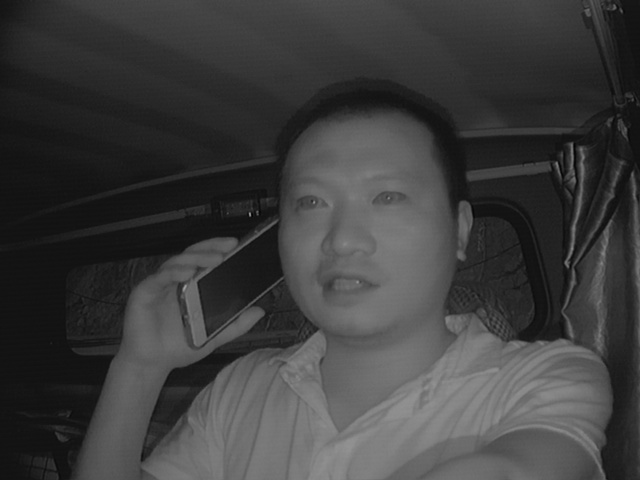hand: (119, 233, 255, 364)
